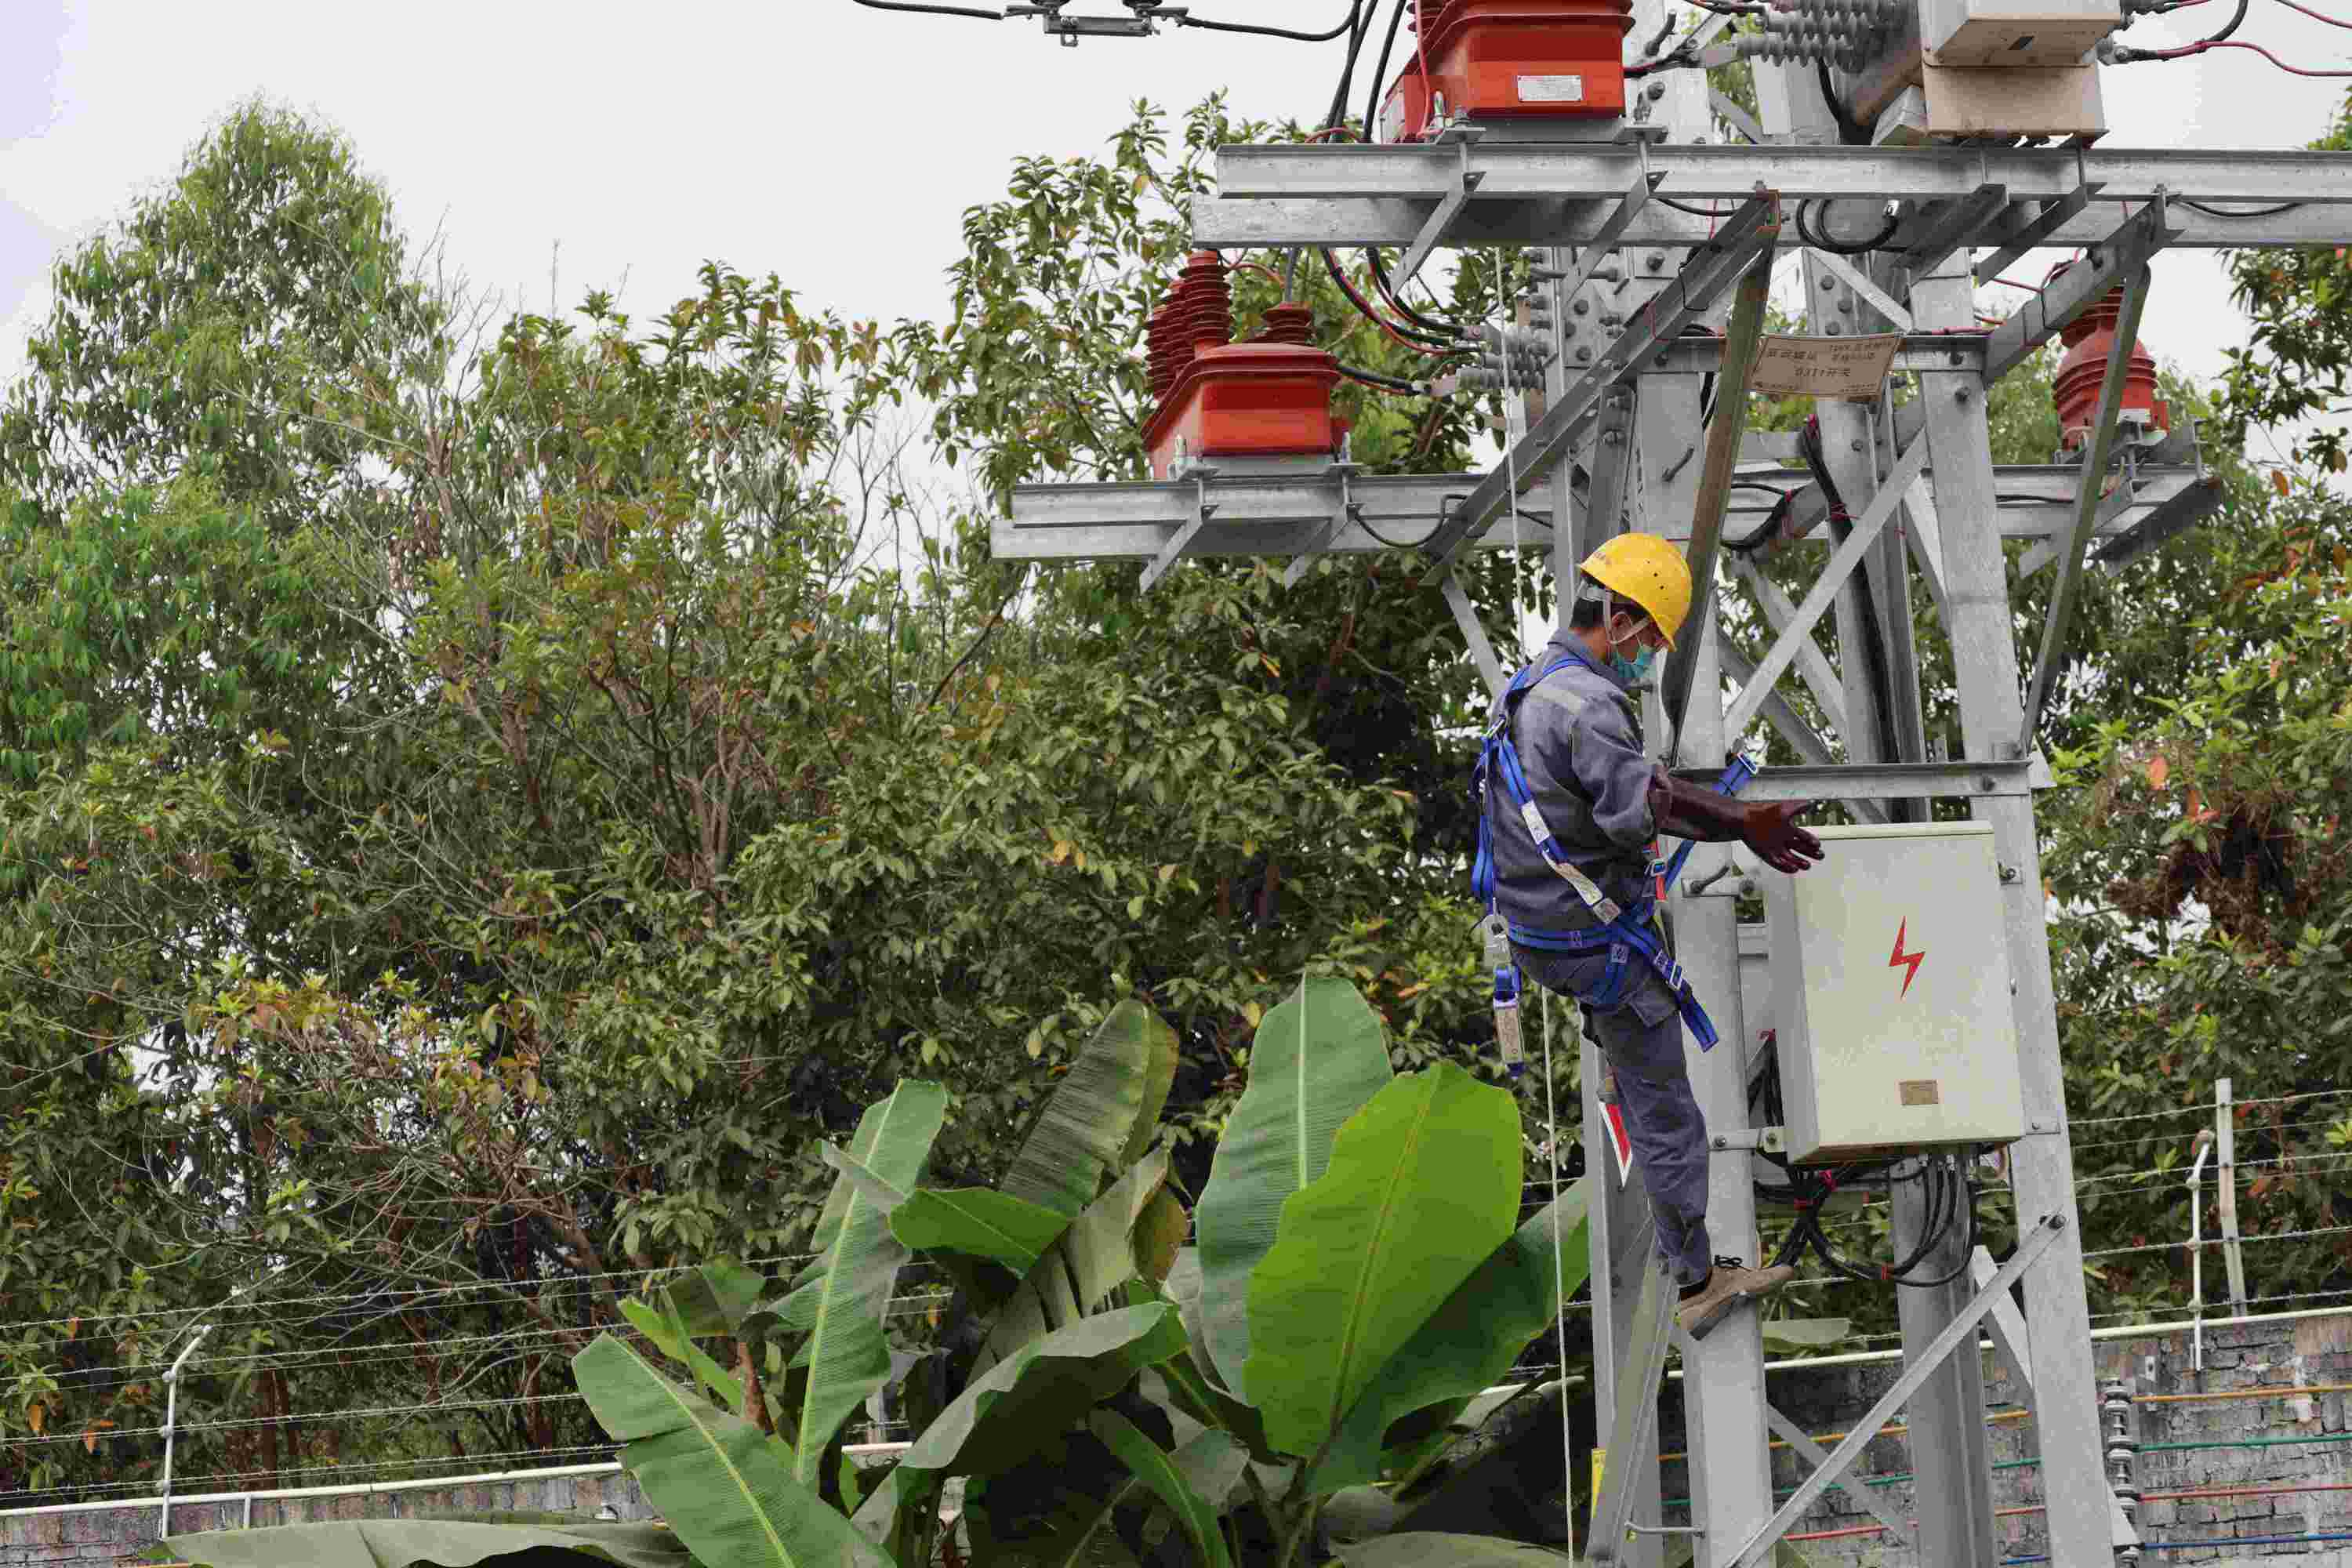downsuit: (1513, 924, 1721, 1271)
halt: (1573, 526, 1700, 670)
inear: (1593, 604, 1657, 664)
longglove: (1652, 762, 1832, 892)
person: (1473, 527, 1820, 1322)
safebelt: (1451, 637, 1752, 1092)
upsuit: (1478, 641, 1704, 919)
